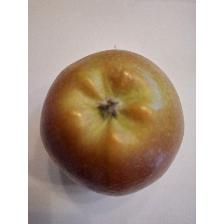Apfel: (36, 44, 188, 198)
